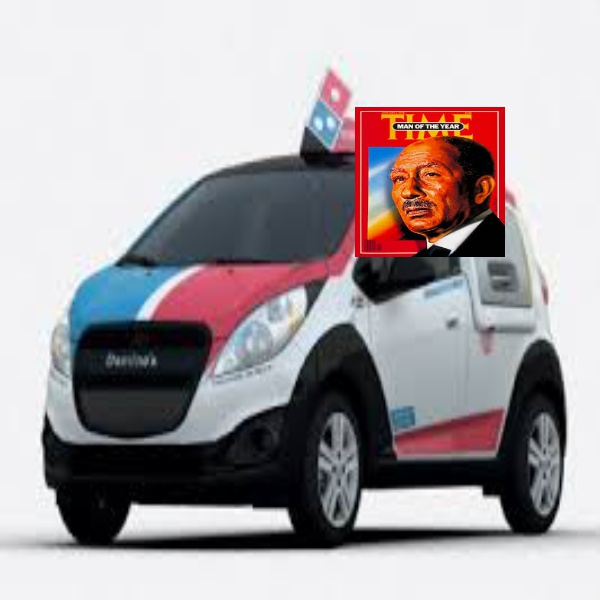time_cover: (344, 89, 508, 272)
